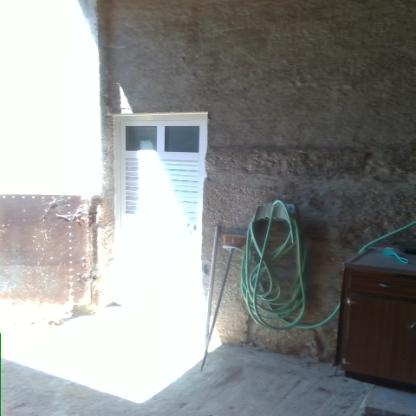closed: (90, 99, 232, 340)
